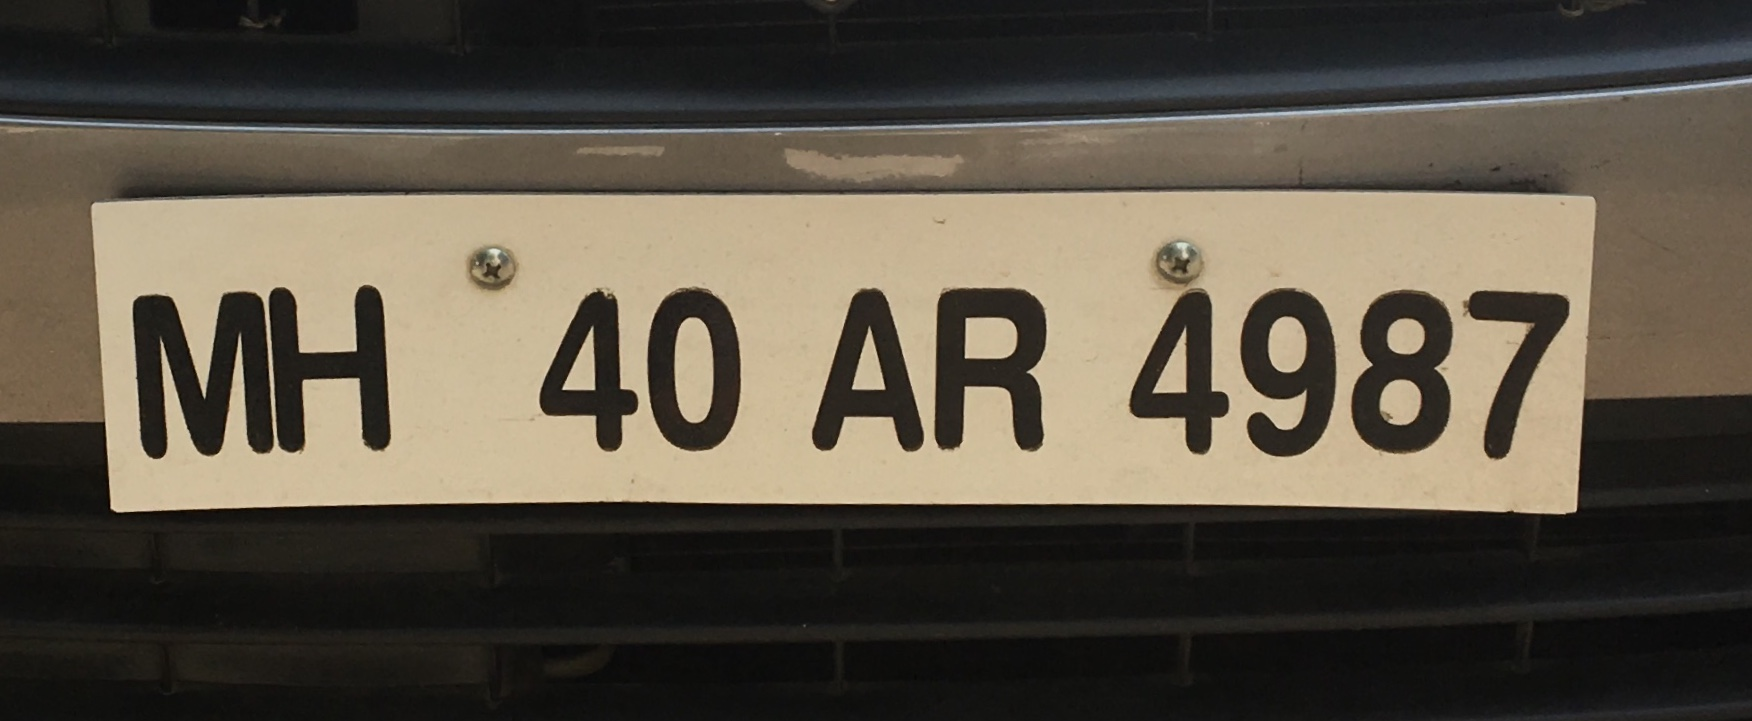numberplate: (86, 191, 1591, 516)
